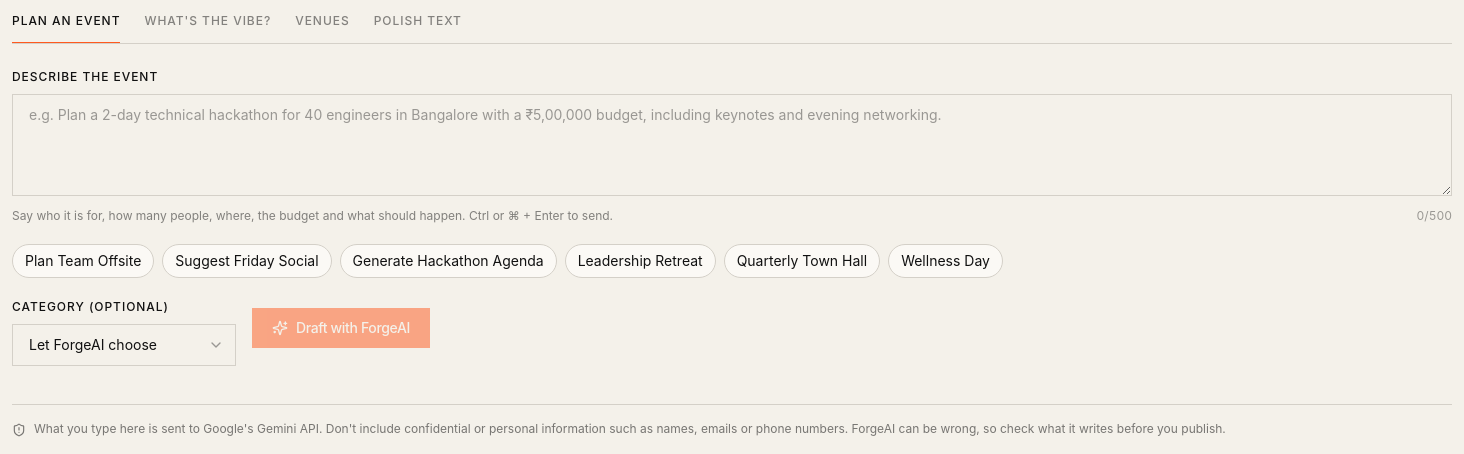
ForgeAiPanel › Polish text › starts with the text it was given
The image size is (1464, 454).
Click the tab "Polish text": point(418, 28) [374,12,462,44]
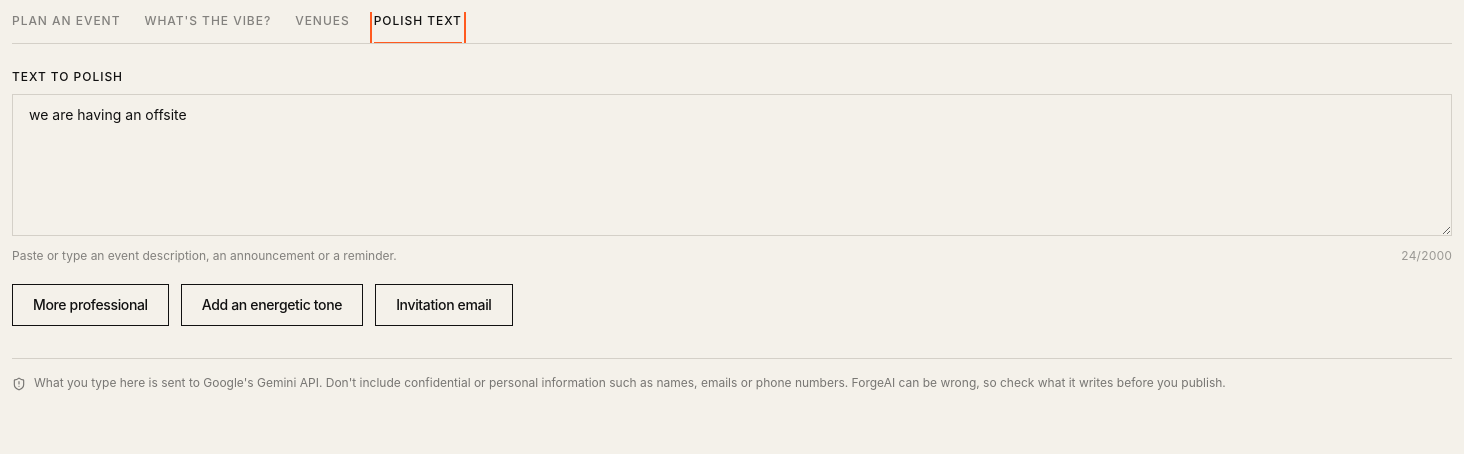
Check: the text box labelled "Text to polish" holds "we are having an offsite", box [12,94,1452,236]
